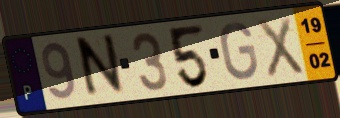3: (132, 30, 169, 93)
5: (165, 22, 211, 90)
9: (39, 40, 79, 104)
G: (219, 21, 261, 83)
N: (76, 31, 127, 103)
X: (254, 14, 307, 80)
